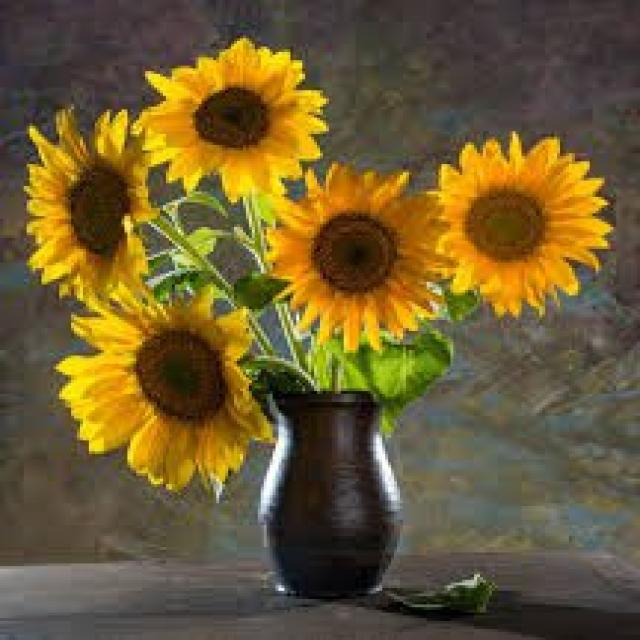sunflower: (53, 278, 267, 497), (261, 164, 468, 356), (427, 127, 622, 316), (127, 34, 332, 204), (18, 99, 166, 318)
